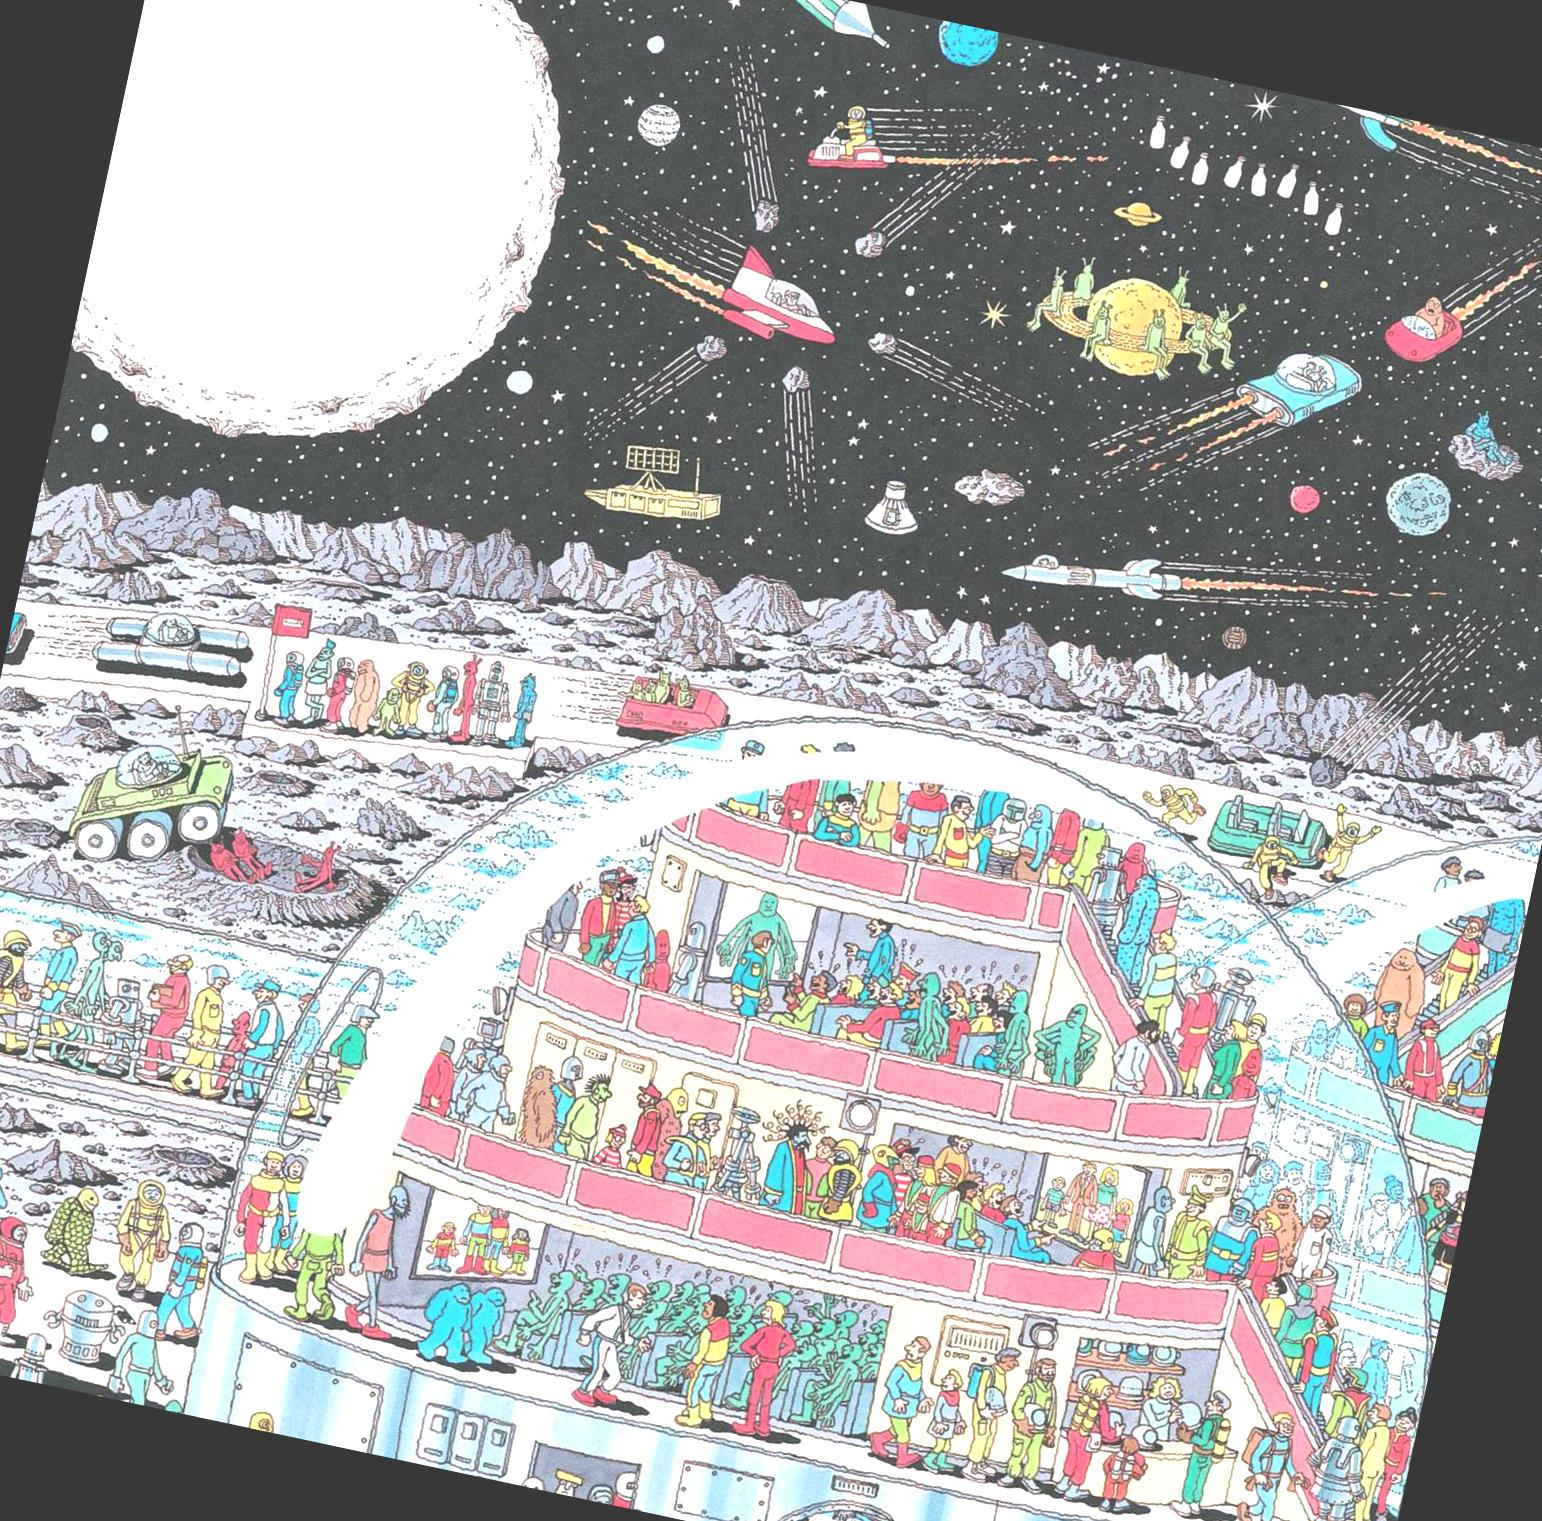waldo: (889, 1139, 921, 1171)
